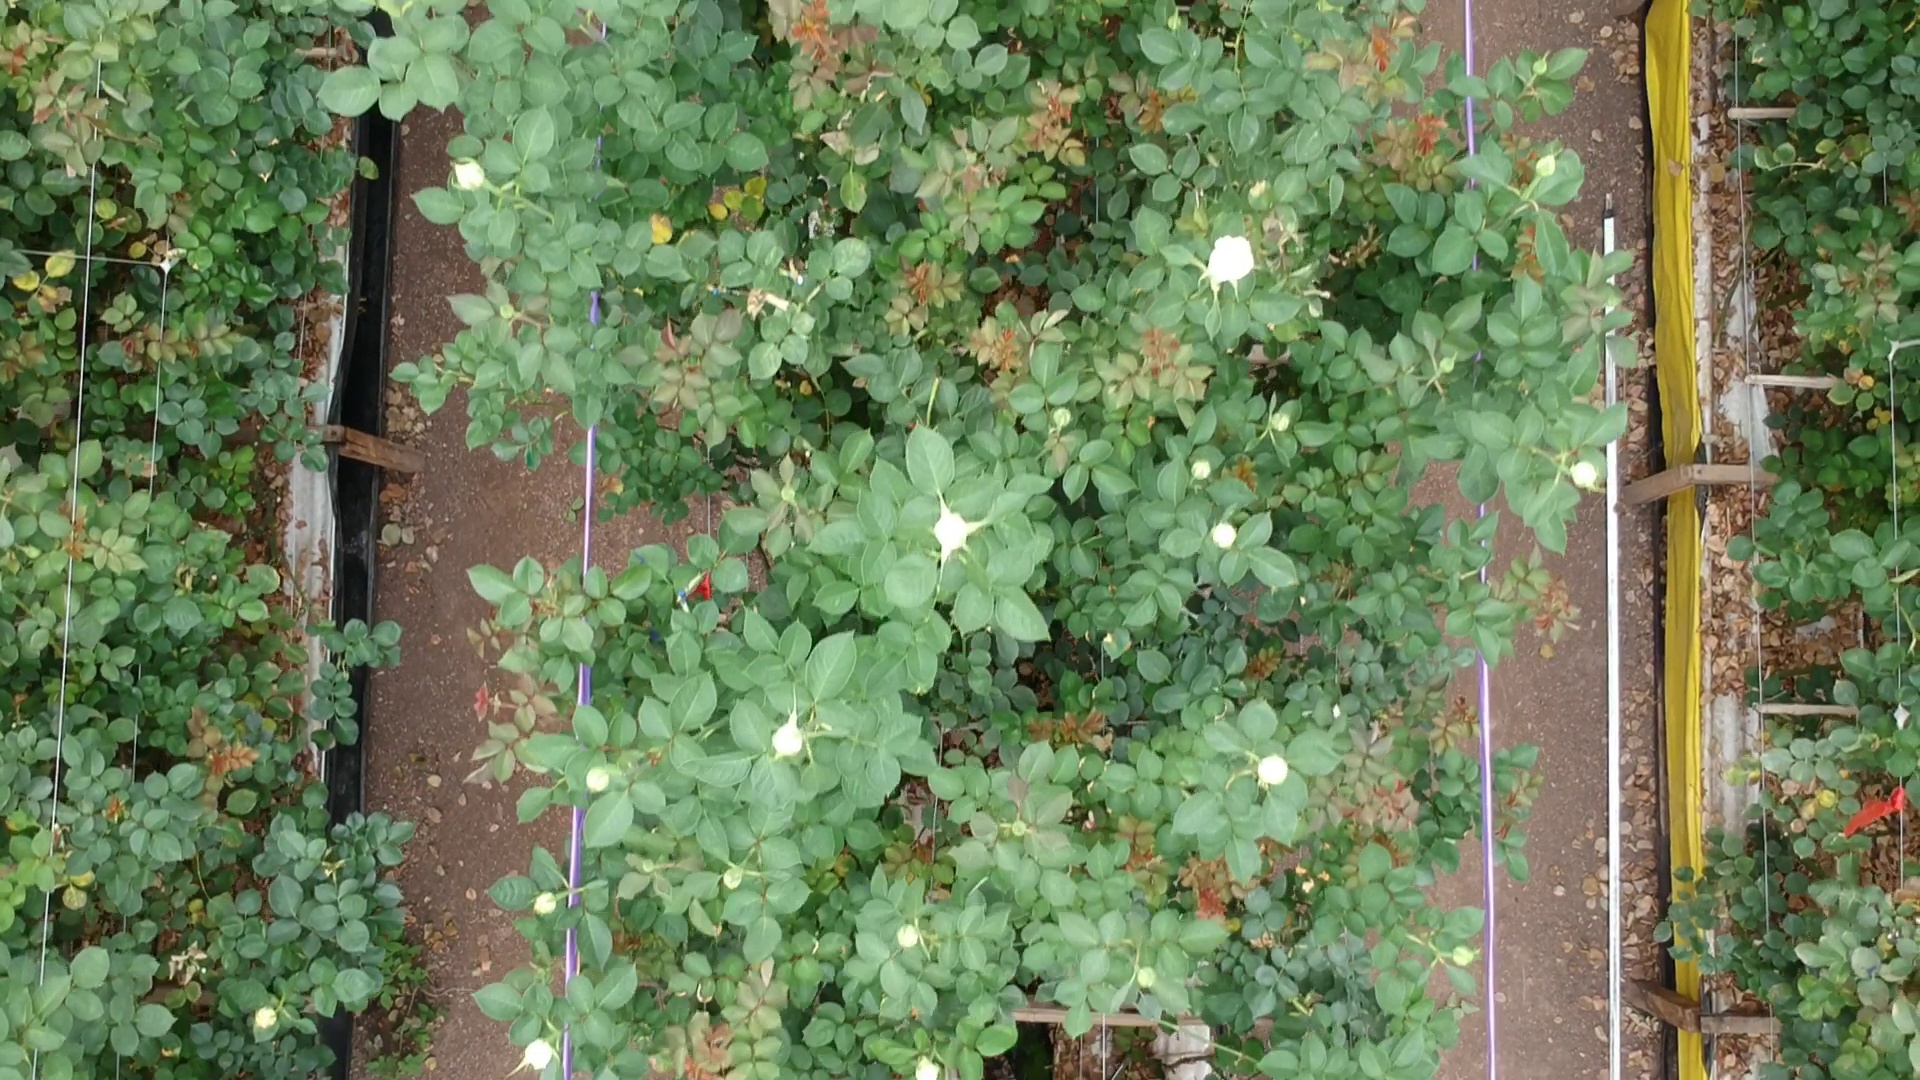P2: (782, 0, 839, 78)
P2_1: (1036, 702, 1110, 748)
P5: (750, 462, 814, 529), (471, 287, 553, 338)
P5_1: (506, 845, 604, 945), (1509, 125, 1581, 212)
P6: (508, 1002, 605, 1079)
